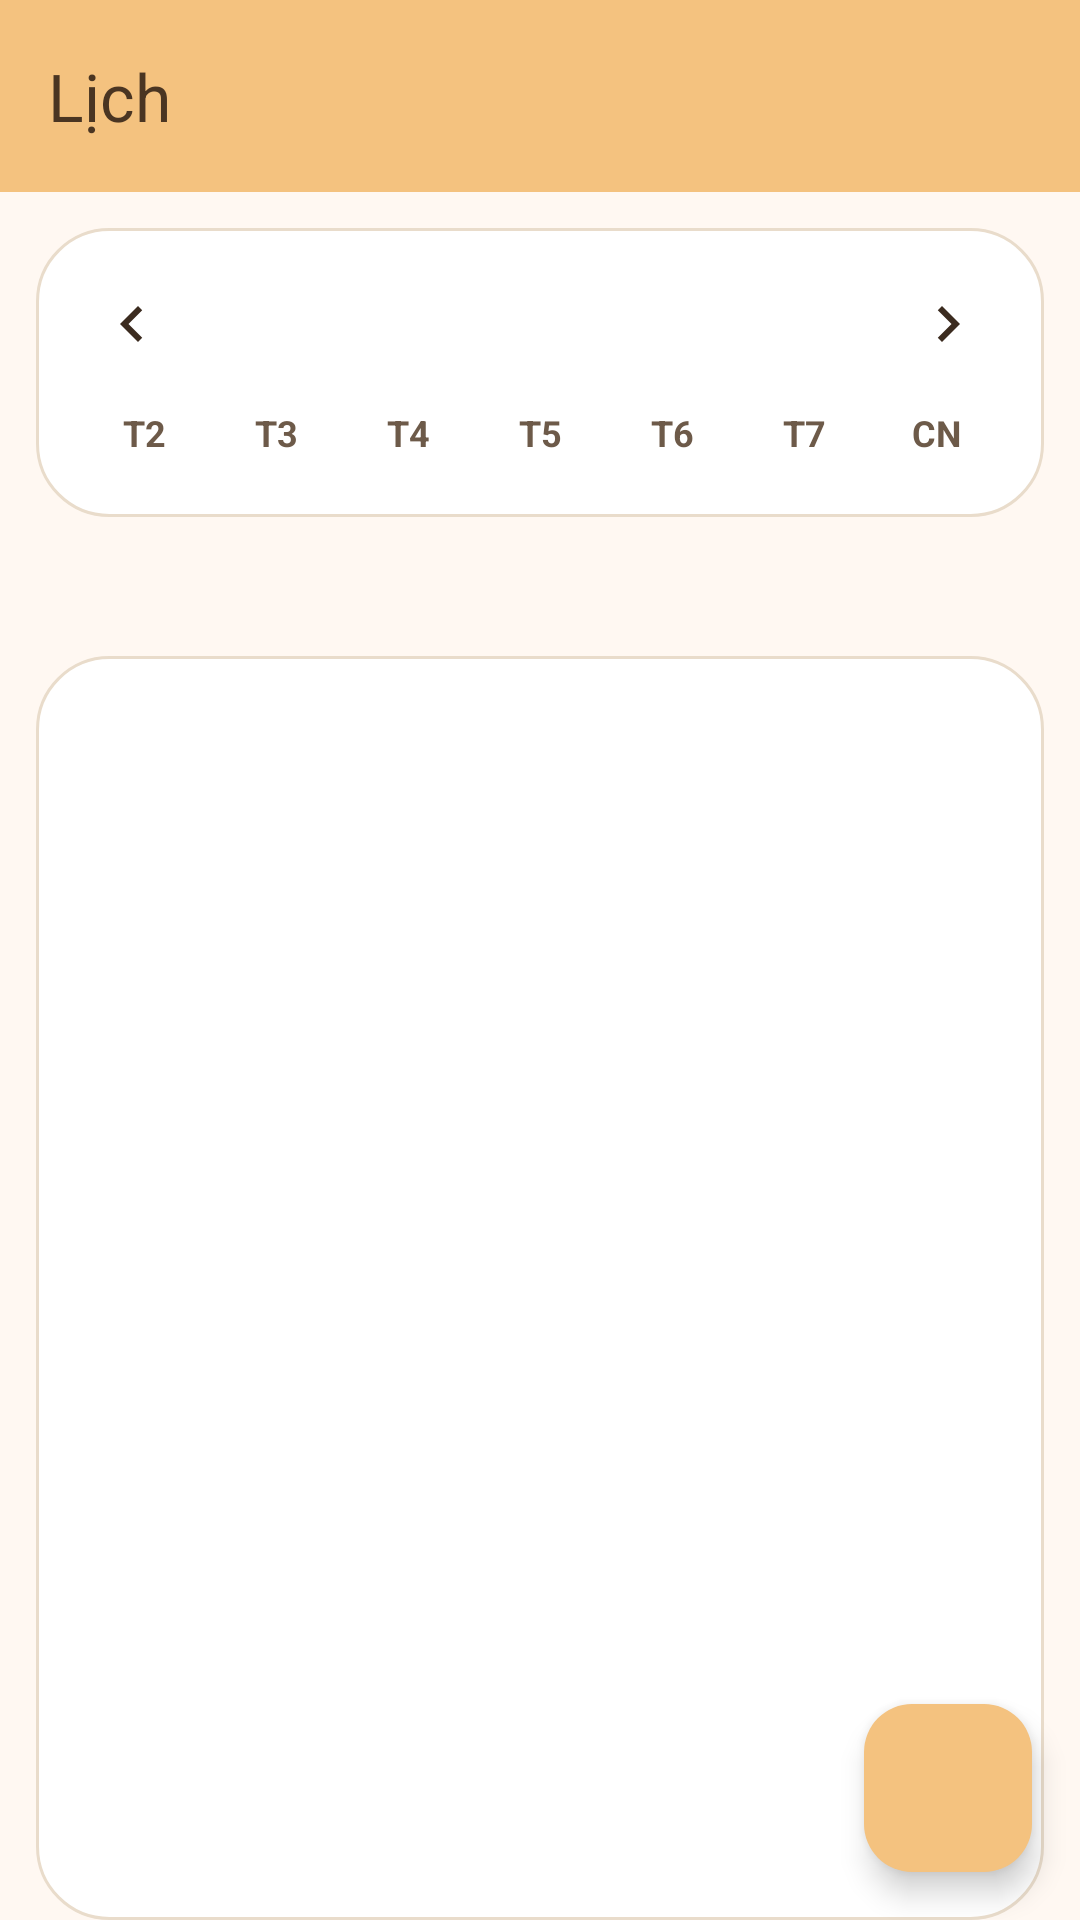

Icons on this 1080px x 1920px Android screen, each with the point to tap as [x,y]:
Tháng sau: [949,324]
Tháng trước: [131,324]
